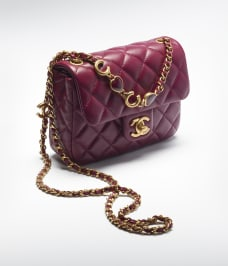channel: (47, 40, 194, 165), (87, 61, 131, 98), (74, 124, 124, 156), (127, 111, 162, 136)
